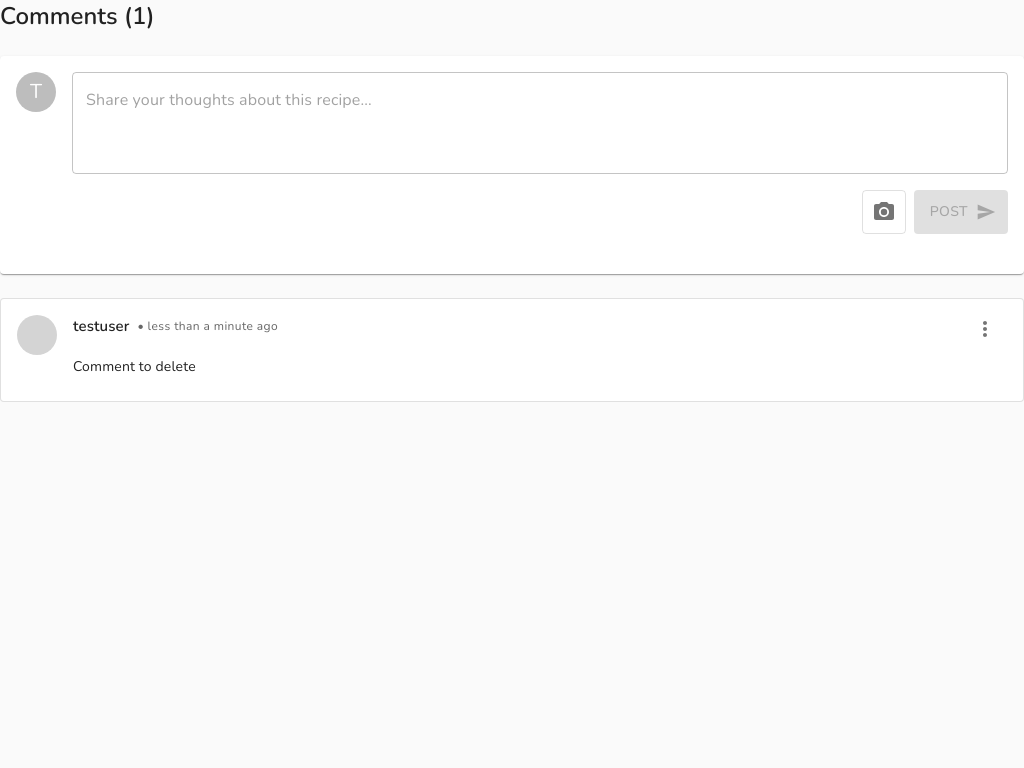
it: CommentsSection Component › Edit and Delete Comments › should delete comment when confirming delete
The width and height of the screenshot is (1024, 768).
Expected: the text "Comment to delete" is shown, [73,357,196,376]
Step 1. Click the button without text in the row of "less than a minute ago" → (985, 329), box [963,307,1007,351]
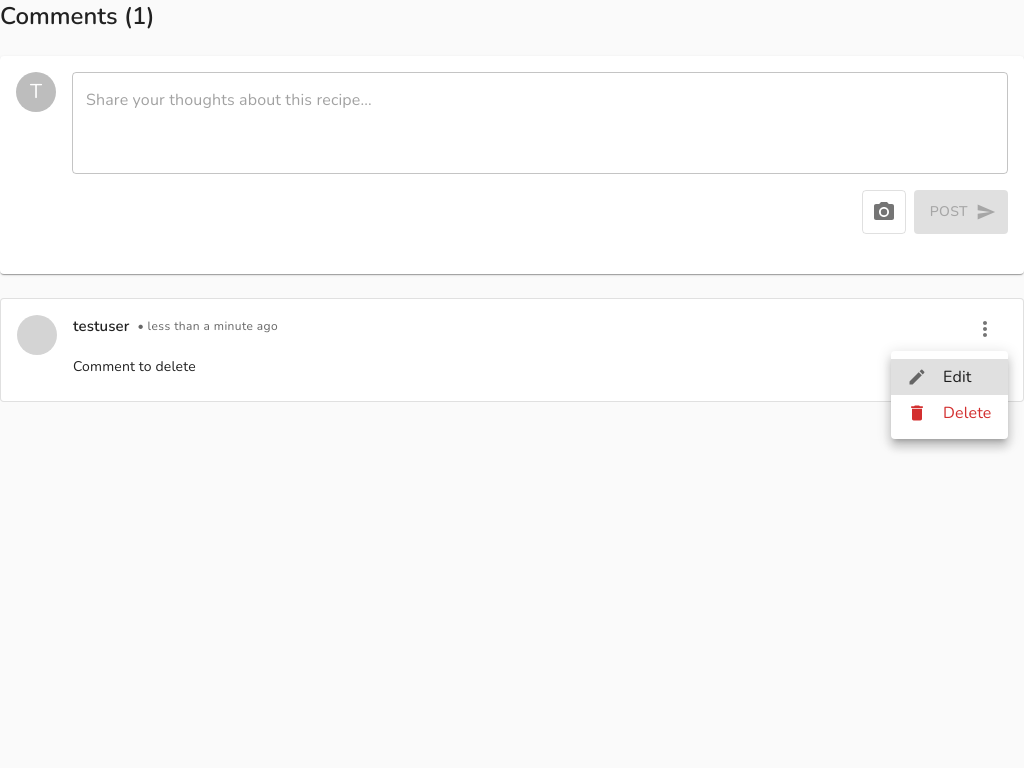
Step 2. Click the menu item "Delete" → (949, 413), box [907,402,992,424]
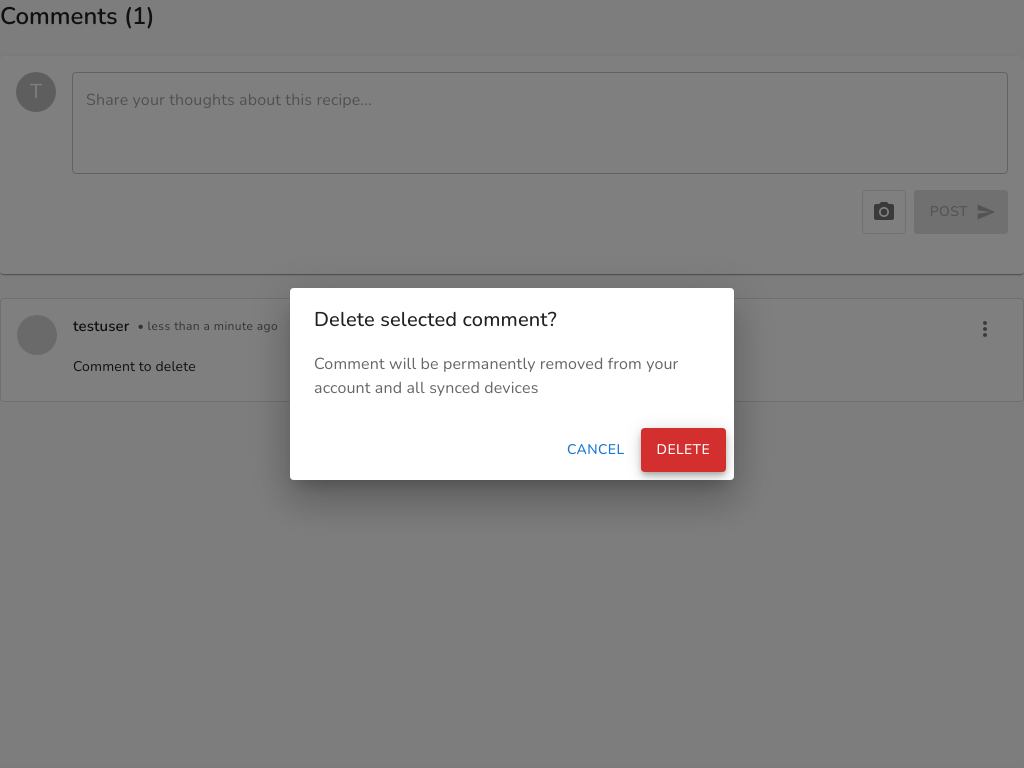
Expected: the heading "Delete selected comment?" is shown, [314,306,557,333]
Click Delete button to confirm
Step 3. Click the button "Delete" → (683, 450), box [640,428,726,472]
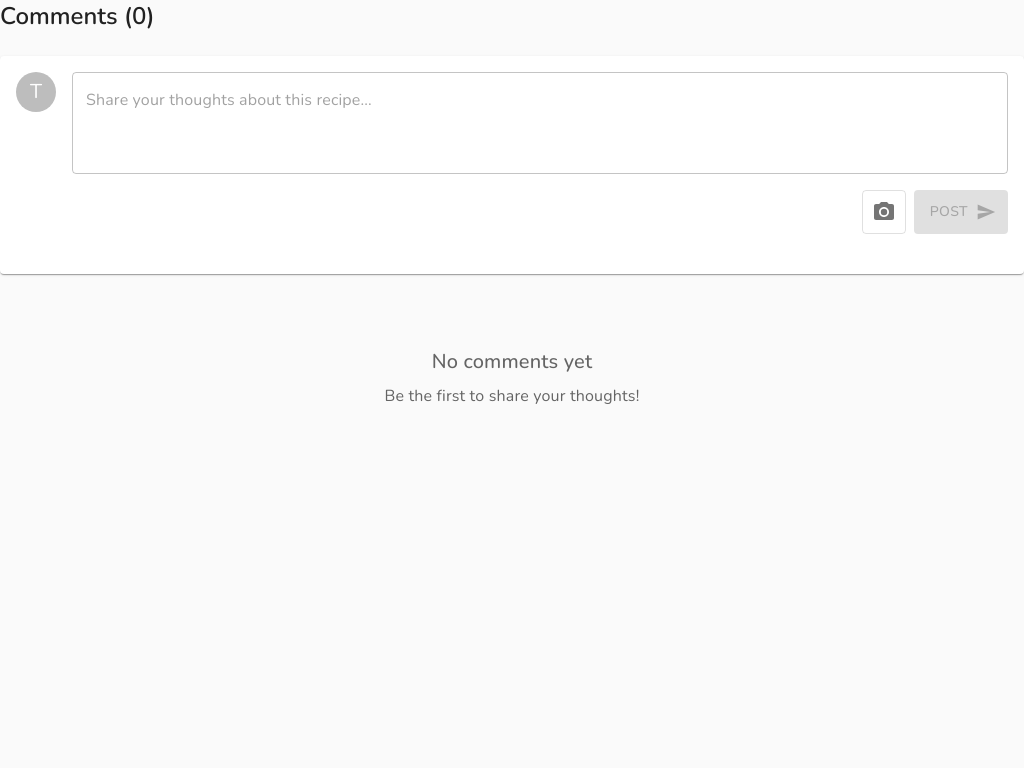
Expected: the text "Comment to delete" is gone
